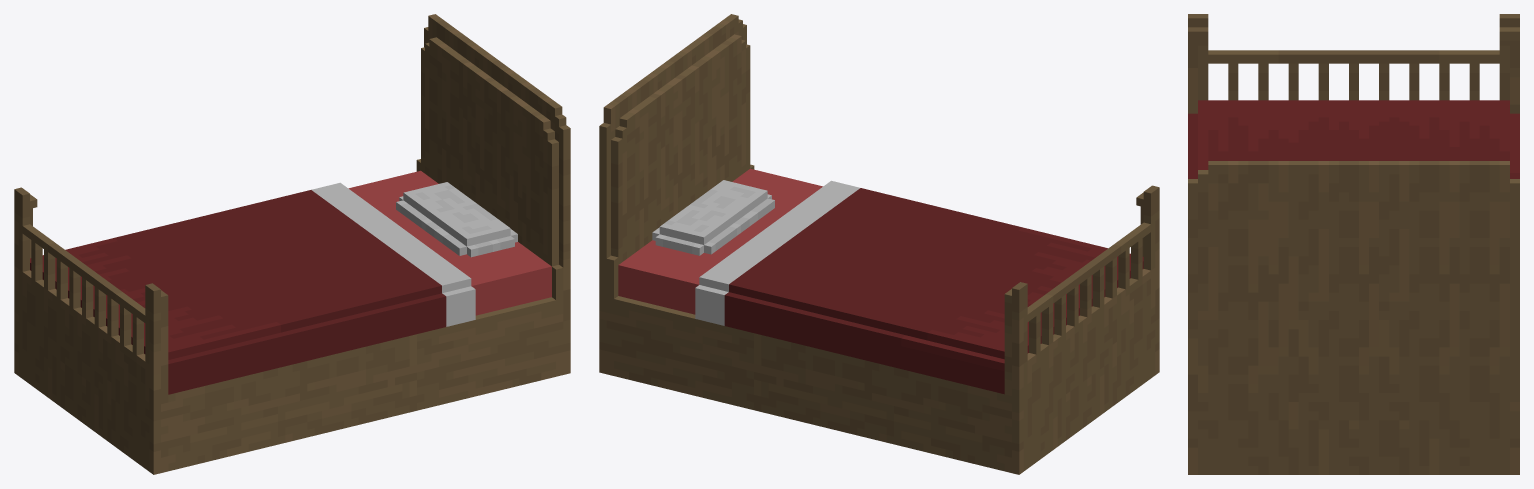
File: bed01.gltf
3 renders of one model, left to right at view 1: azimuth 30°, elevation 25°; view 2: azimuth 150°, elevation 25°; view 3: azimuth 270°, elevation 25°, orthographic. The views are drawn at different scales.
Parts seen in each view (by area): view 1: Node; view 2: Node; view 3: Node.
Part boxes in pixels (x1=…): Node: x1=14, y1=14, x2=570, y2=474; Node: x1=599, y1=14, x2=1159, y2=474; Node: x1=1188, y1=14, x2=1519, y2=474.
Size of the model in its own units: 5.7 by 3.4 by 3.3.
1 material, 1 textured.
